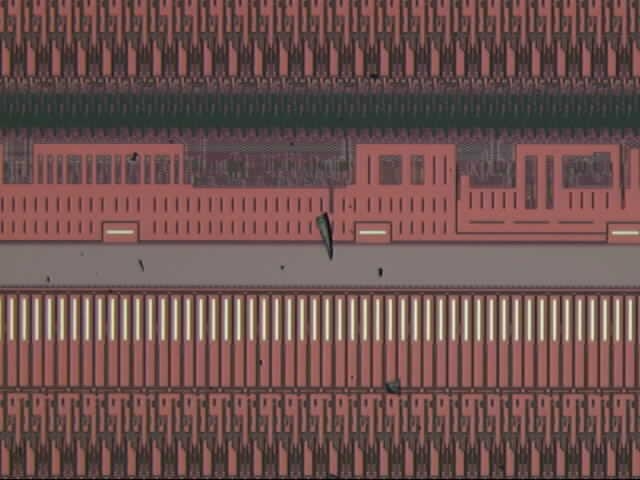PO CONTAMINATION: (44, 72, 406, 480)
